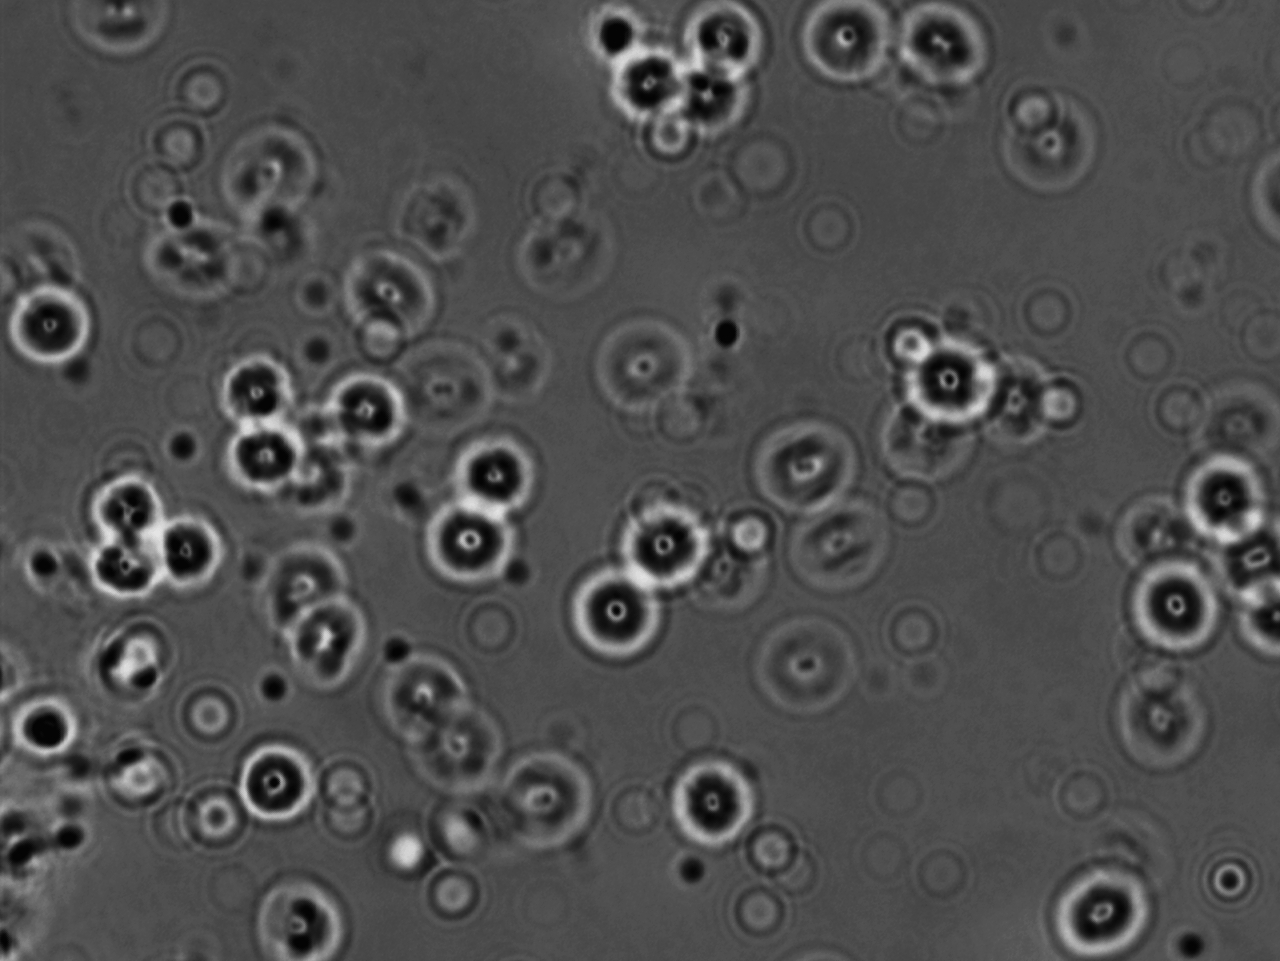depth:-8: (1117, 539, 1233, 668), (895, 323, 1015, 442), (1038, 850, 1166, 958), (407, 490, 529, 602), (1162, 437, 1276, 550), (218, 732, 332, 836), (562, 565, 672, 671), (665, 745, 776, 849), (613, 483, 721, 589), (79, 453, 181, 560), (309, 359, 416, 459), (446, 426, 548, 522), (598, 39, 689, 136), (680, 3, 777, 95), (75, 529, 173, 620), (145, 510, 238, 601), (210, 346, 305, 429)
